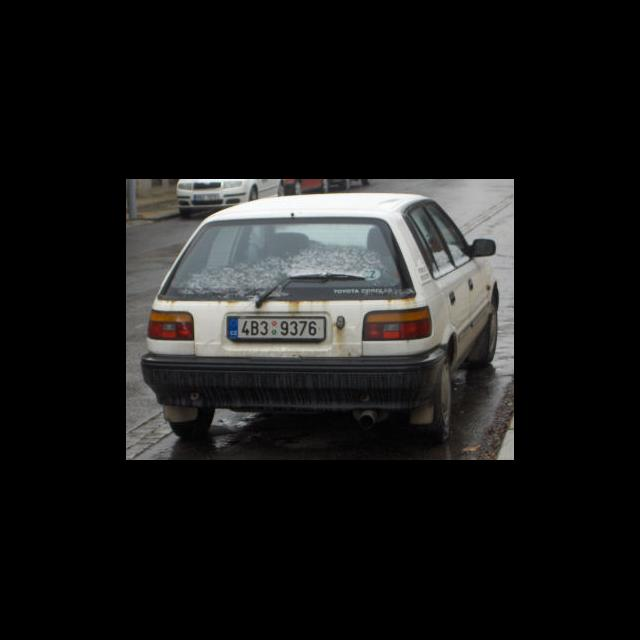Plate: (227, 314, 326, 342)
